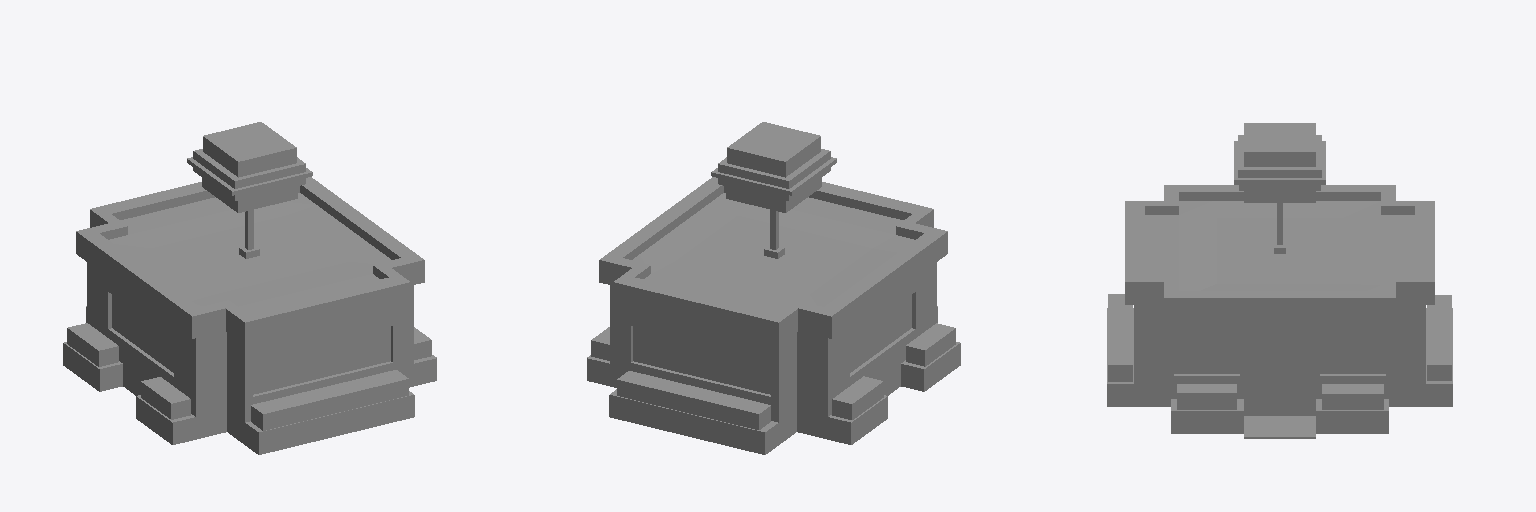
Rendered from BurgerShop.obj.
The picture shows the model from 3 angles: view 1: azimuth 30°, elevation 25°; view 2: azimuth 150°, elevation 25°; view 3: azimuth 270°, elevation 25°; orthographic projection.
Parts seen in each view (by area): view 1: Cube_Cube.001; view 2: Cube_Cube.001; view 3: Cube_Cube.001.
Part boxes in pixels (x1,y1,x2,y2): Cube_Cube.001: (63,122,436,454); Cube_Cube.001: (587,122,960,454); Cube_Cube.001: (1107,123,1452,438).
Bounding box in the file's own units: 3.55 × 2.84 × 3.84.